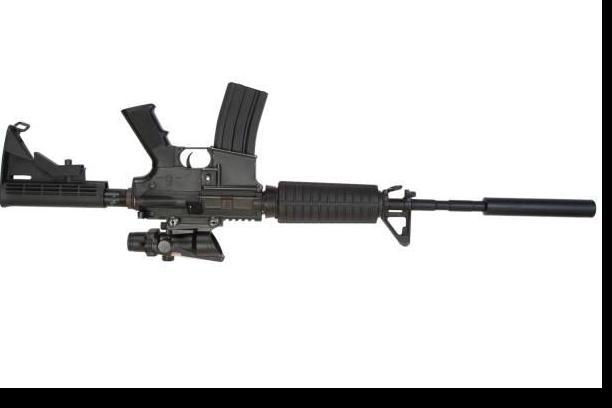larga: (0, 82, 596, 263)
